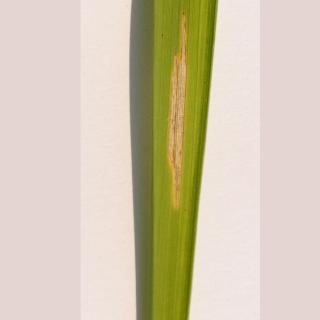Hawar-Daun: (160, 11, 201, 207)
